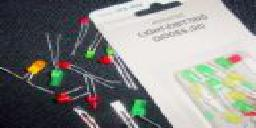LED: (22, 57, 43, 85), (48, 67, 69, 89), (71, 12, 94, 30), (54, 92, 75, 107), (97, 52, 113, 65), (60, 57, 75, 69), (84, 51, 95, 62)
